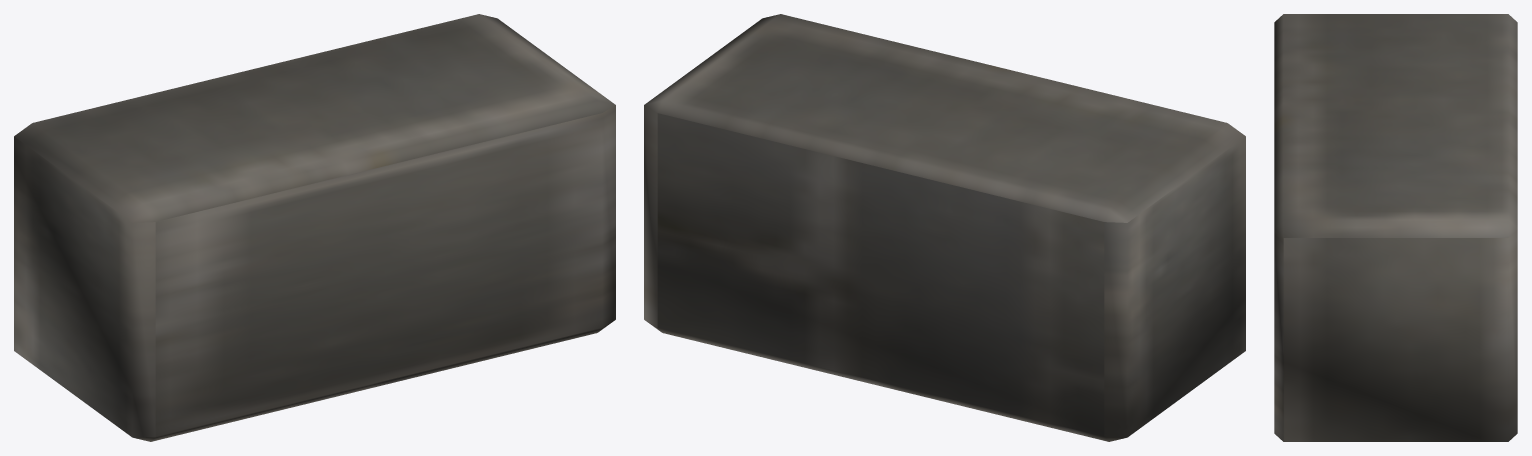
File: Brick.fbx
3 views of the same model, side by side, from view 1: azimuth 30°, elevation 25°; view 2: azimuth 150°, elevation 25°; view 3: azimuth 270°, elevation 25° (orthographic). The views are drawn at different scales.
Visible parts, largest first — view 1: Cube; view 2: Cube; view 3: Cube.
Part boxes in pixels (x1,y1,x2,y2): Cube: [14, 14, 615, 441]; Cube: [644, 14, 1245, 441]; Cube: [1274, 14, 1517, 441].
Bounding box in the file's own units: 436 × 200 × 200.
